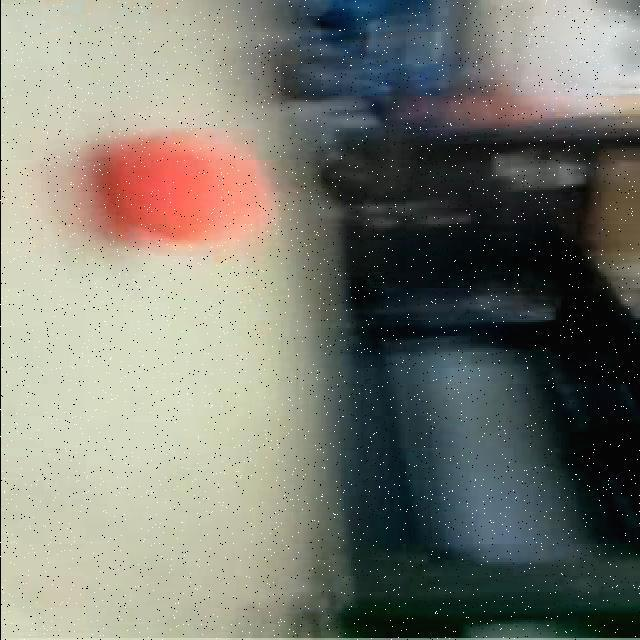ping-pong-ball: (103, 115, 269, 250)
